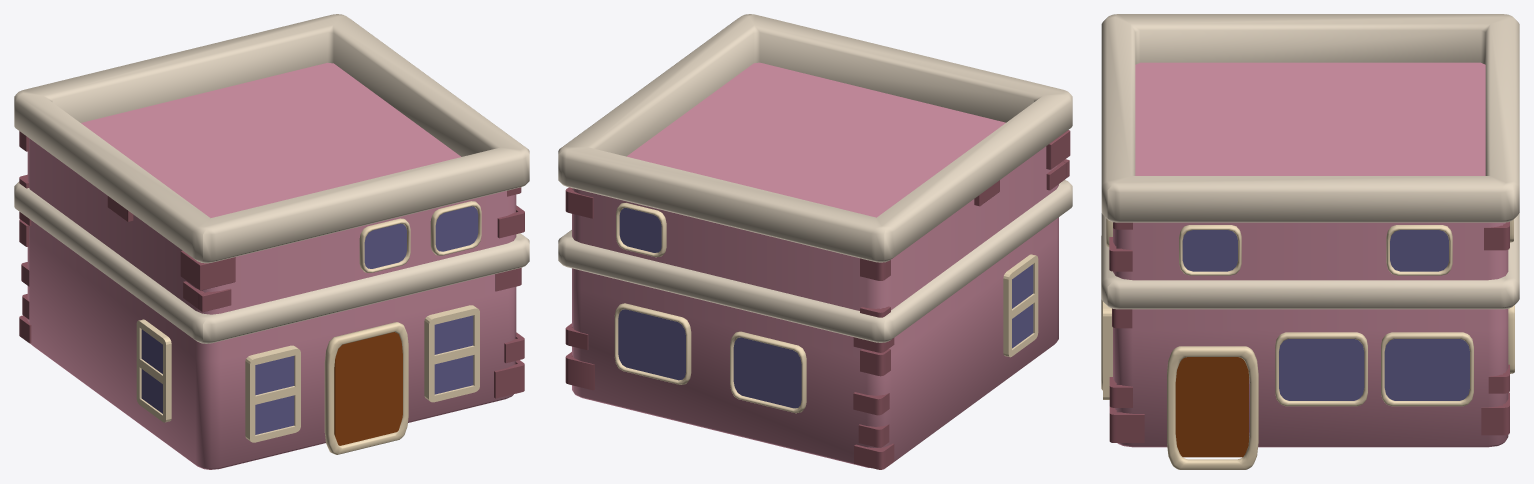
The model's file is Building_2.fbx.
3 views of the same model, side by side, from view 1: azimuth 30°, elevation 25°; view 2: azimuth 150°, elevation 25°; view 3: azimuth 270°, elevation 25° (orthographic). The views are drawn at different scales.
Visible parts, largest first — view 1: Plane.046; view 2: Plane.046; view 3: Plane.046.
Boxes of the visible parts, x1,y1,x2,y2 form: Plane.046: [14, 14, 529, 469]; Plane.046: [558, 14, 1072, 469]; Plane.046: [1101, 14, 1519, 469].
Bounding box in the file's own units: 1712 × 1281 × 1713.
